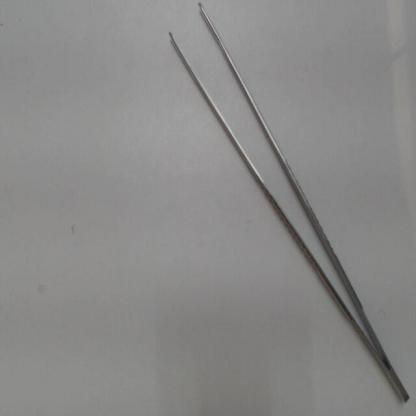DeBakey Dissector: (154, 2, 415, 406)
